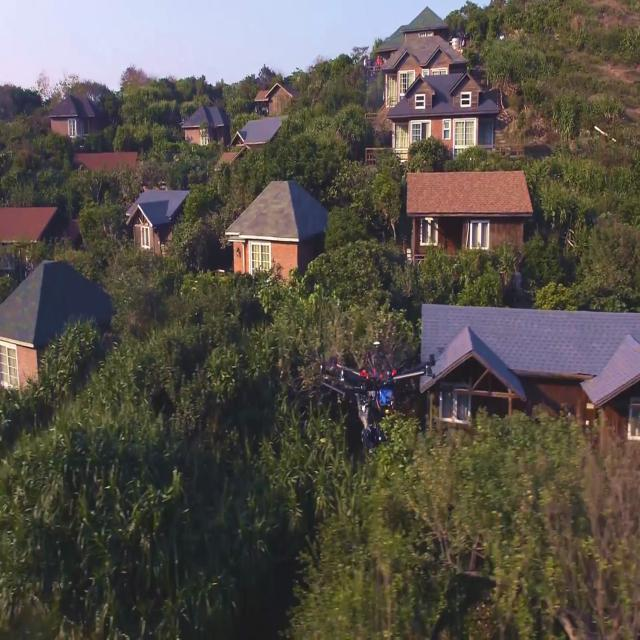drone: (317, 336, 447, 451)
